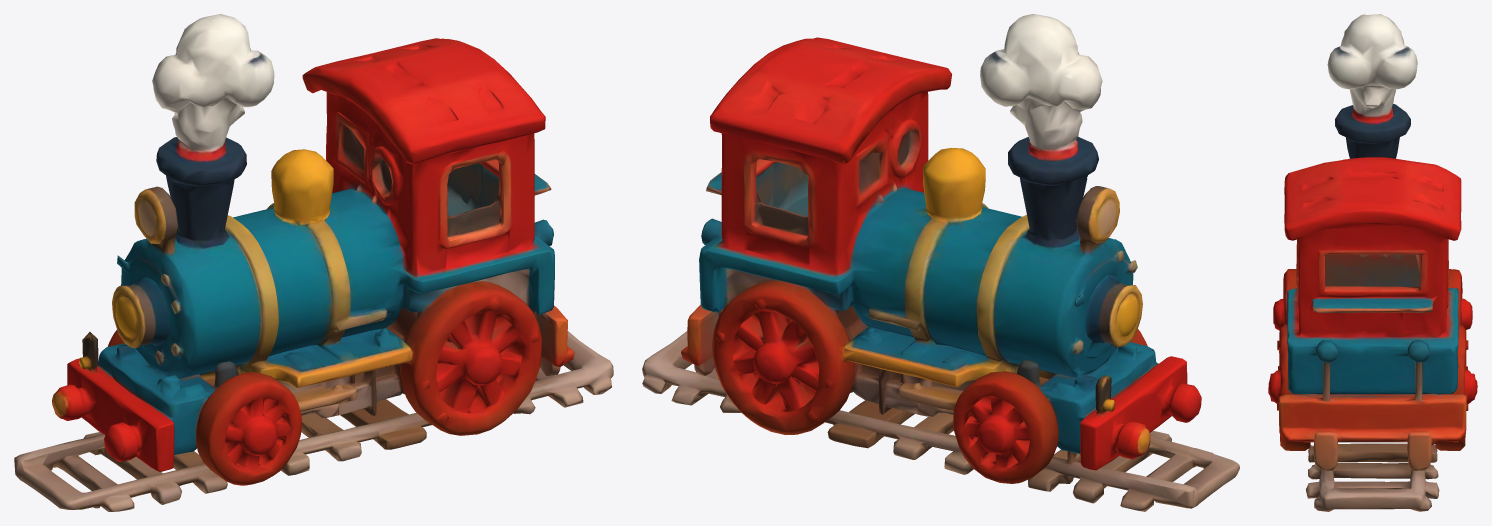
Rendered from locomotive.glb.
3 renders of one model, left to right at view 1: azimuth 30°, elevation 25°; view 2: azimuth 150°, elevation 25°; view 3: azimuth 270°, elevation 25°, orthographic. The views are drawn at different scales.
Visible parts, largest first — view 1: tripo_node_7a837872-e055-422a-9455-32e68f4e0eb6; view 2: tripo_node_7a837872-e055-422a-9455-32e68f4e0eb6; view 3: tripo_node_7a837872-e055-422a-9455-32e68f4e0eb6.
Boxes of the visible parts, x1,y1,x2,y2 form: tripo_node_7a837872-e055-422a-9455-32e68f4e0eb6: (14, 14, 613, 511); tripo_node_7a837872-e055-422a-9455-32e68f4e0eb6: (642, 14, 1239, 511); tripo_node_7a837872-e055-422a-9455-32e68f4e0eb6: (1268, 14, 1477, 511).
Size of the model in its own units: 1 by 0.761 by 0.4087.
1 material, 1 textured.
